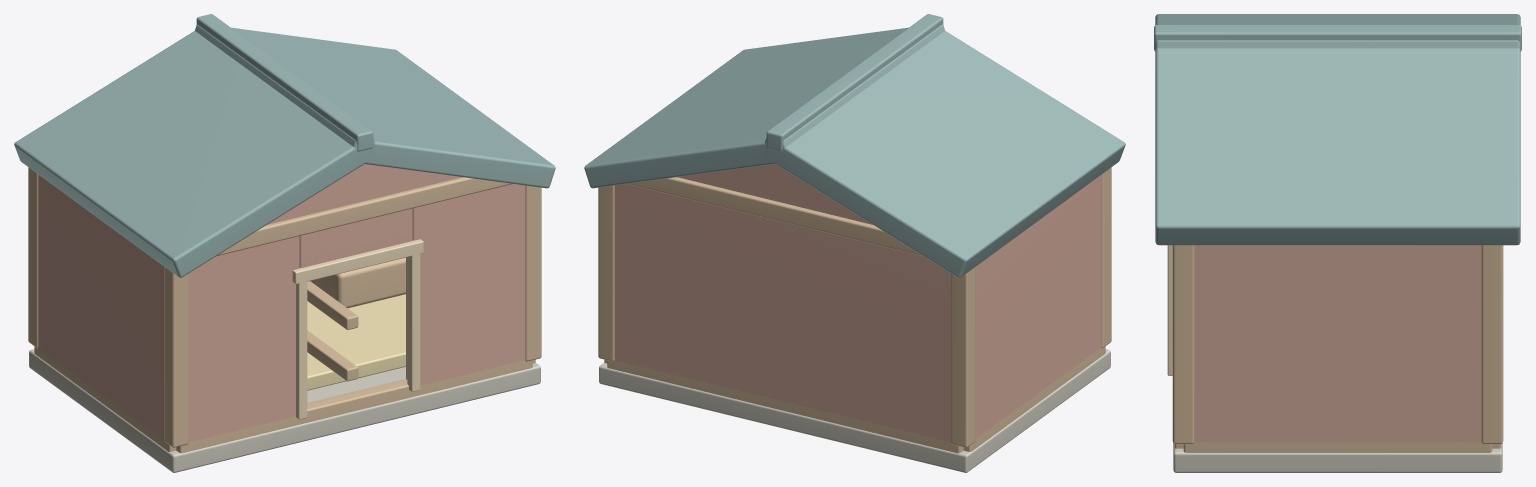
File: cattle-shelter-complete.glb
3 renders of one model, left to right at view 1: azimuth 30°, elevation 25°; view 2: azimuth 150°, elevation 25°; view 3: azimuth 270°, elevation 25°, orthographic. The views are drawn at different scales.
Visible parts, largest first — view 1: Padded roof plane.014, Side panel.014, Padded roof plane.015, Front cladding.011, Front cladding.010, Rounded stone footing.019, Straw resting pad.001, Eave beam.022, Sill beam.076, Corner post.056, Ridge cap.007, Front header panel.005 (+10 smaller); view 2: Back panel.005, Padded roof plane.014, Side panel.014, Padded roof plane.015, Rounded stone footing.019, Eave beam.023, Corner post.057, Ridge cap.007, Gable cladding.015, Sill beam.077, Corner post.059, Corner post.056 (+1 smaller); view 3: Padded roof plane.015, Side panel.015, Padded roof plane.014, Rounded stone footing.019, Ridge cap.007, Corner post.058, Corner post.059, Sill beam.079, Front door jamb.011.
Boxes of the visible parts, box(x1,y1,x2,y2) form: Padded roof plane.014: box(14, 31, 377, 277); Side panel.014: box(38, 174, 163, 438); Padded roof plane.015: box(195, 24, 555, 188); Front cladding.011: box(406, 184, 525, 385); Front cladding.010: box(188, 236, 299, 442); Rounded stone footing.019: box(29, 349, 540, 472); Straw resting pad.001: box(307, 294, 405, 390); Eave beam.022: box(216, 177, 512, 256); Sill beam.076: box(176, 360, 532, 453); Corner post.056: box(164, 266, 188, 447); Ridge cap.007: box(196, 14, 373, 151); Front header panel.005: box(299, 208, 412, 267); Back panel.005: box(614, 184, 951, 442); Padded roof plane.014: box(762, 31, 1125, 277); Side panel.014: box(976, 174, 1101, 438); Padded roof plane.015: box(584, 24, 944, 188); Rounded stone footing.019: box(599, 349, 1110, 472); Eave beam.023: box(627, 177, 923, 256); Corner post.057: box(951, 266, 975, 447); Ridge cap.007: box(766, 14, 943, 151); Gable cladding.015: box(677, 164, 872, 224); Sill beam.077: box(607, 360, 963, 453); Corner post.059: box(598, 185, 614, 361); Corner post.056: box(1101, 167, 1111, 348); Padded roof plane.015: box(1155, 48, 1520, 245); Side panel.015: box(1194, 245, 1481, 442); Padded roof plane.014: box(1155, 14, 1520, 49); Rounded stone footing.019: box(1173, 443, 1502, 472); Ridge cap.007: box(1154, 25, 1521, 51); Corner post.058: box(1172, 245, 1194, 444); Corner post.059: box(1481, 245, 1503, 444); Sill beam.079: box(1183, 440, 1492, 452); Front door jamb.011: box(1167, 245, 1172, 375).
Bounding box in the file's own units: 3.9 × 2.94 × 2.86.
